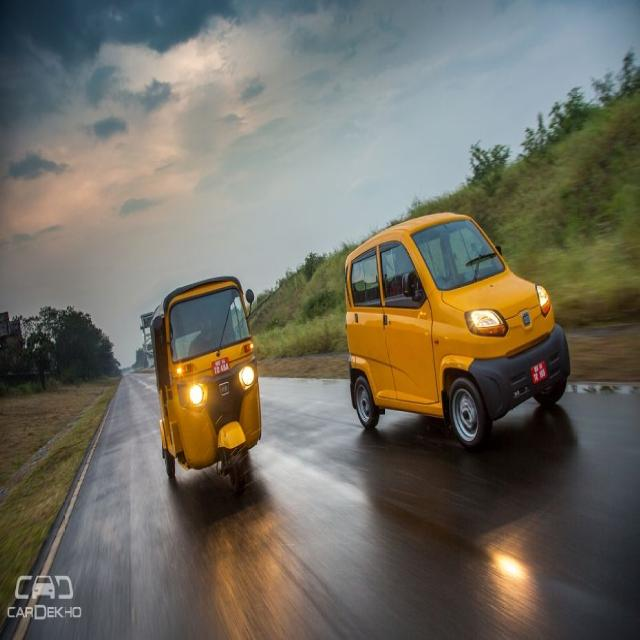autorickshaw: (150, 276, 261, 493)
car: (345, 212, 570, 450)
